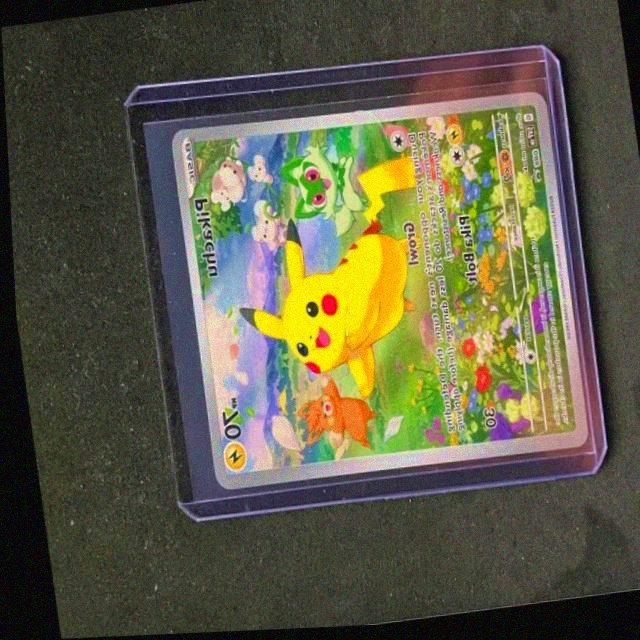card: (169, 97, 582, 492)
